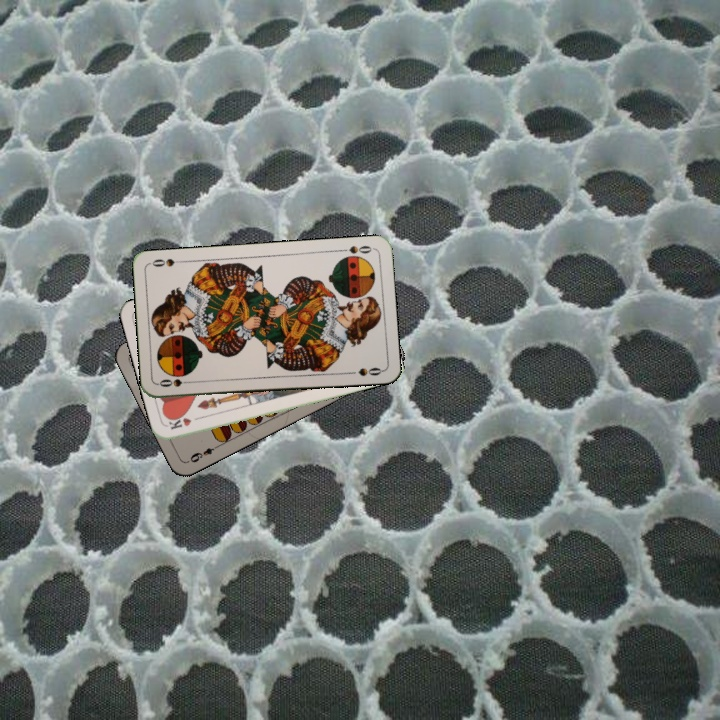E9: (184, 441, 222, 465)
HK: (165, 412, 205, 432)
SO: (155, 375, 196, 390), (335, 242, 376, 256)
